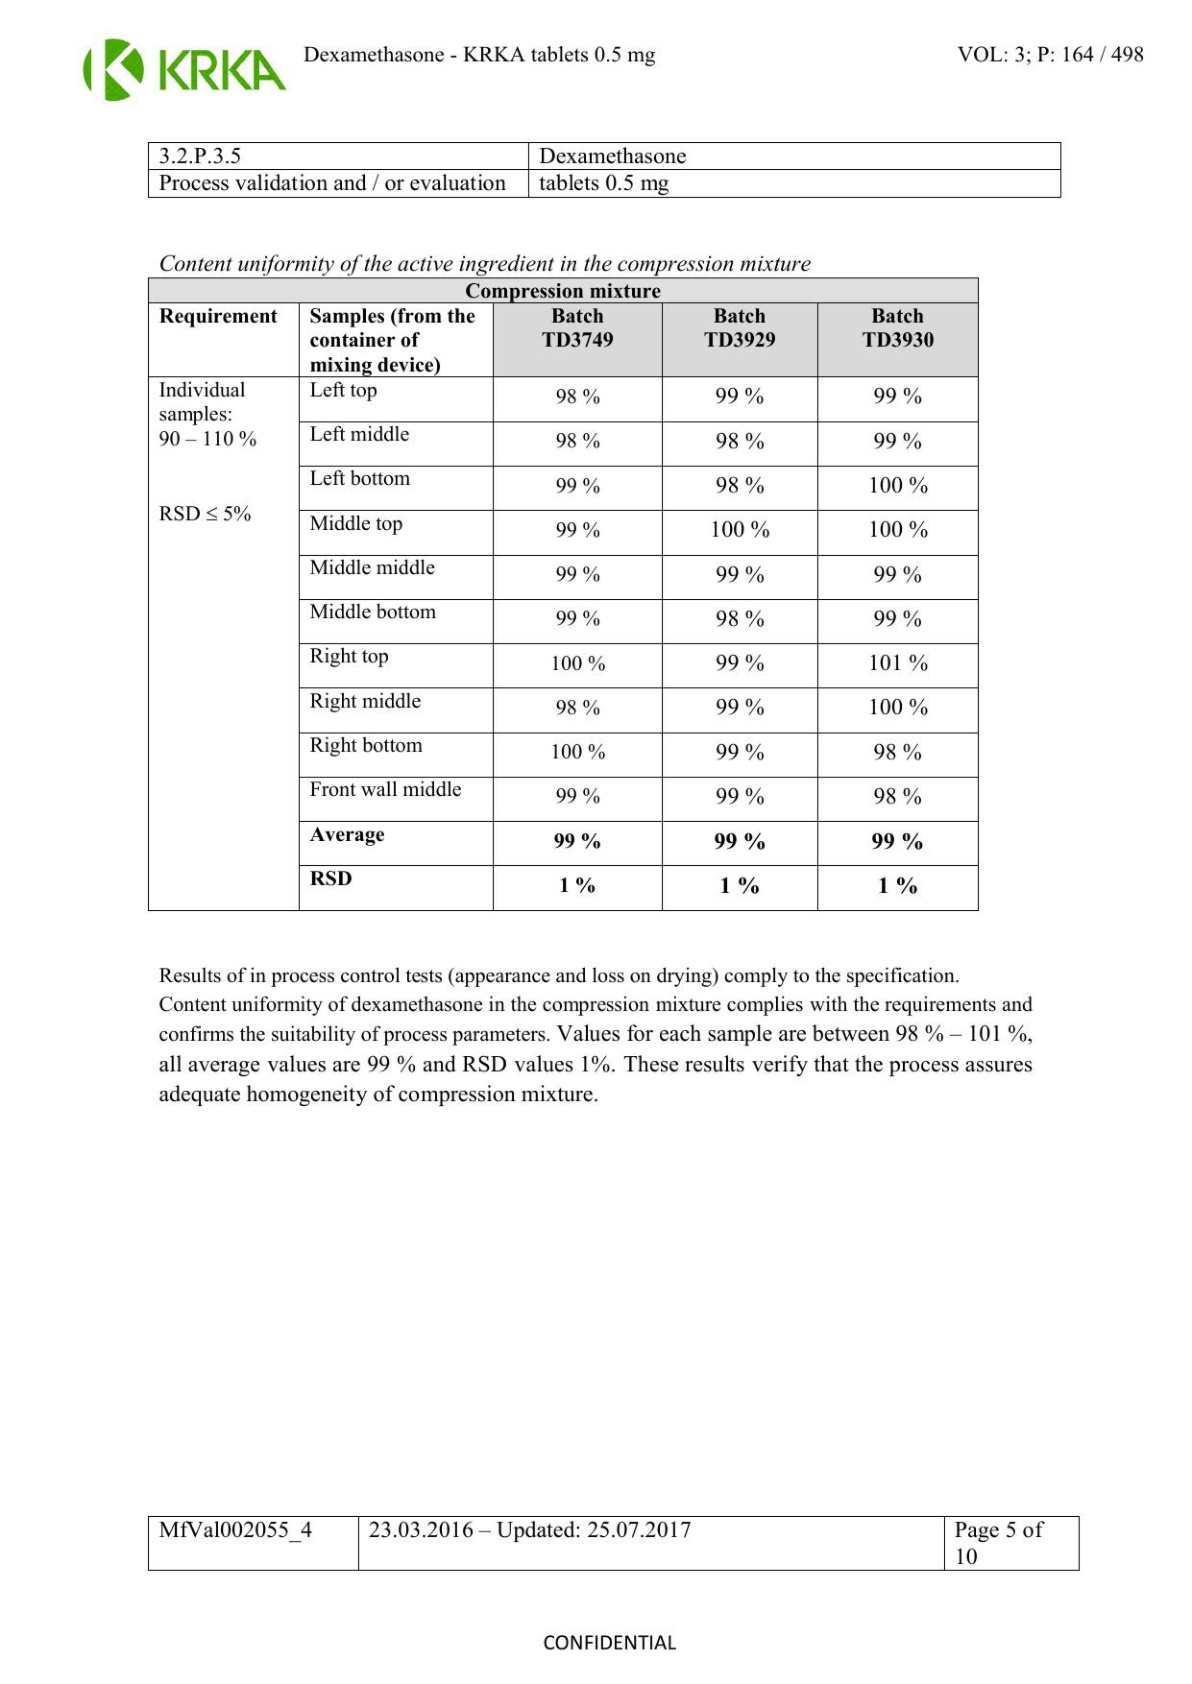full_lined: (146, 1514, 1081, 1573), (146, 142, 1062, 199)
merged_cells: (144, 276, 980, 913)
